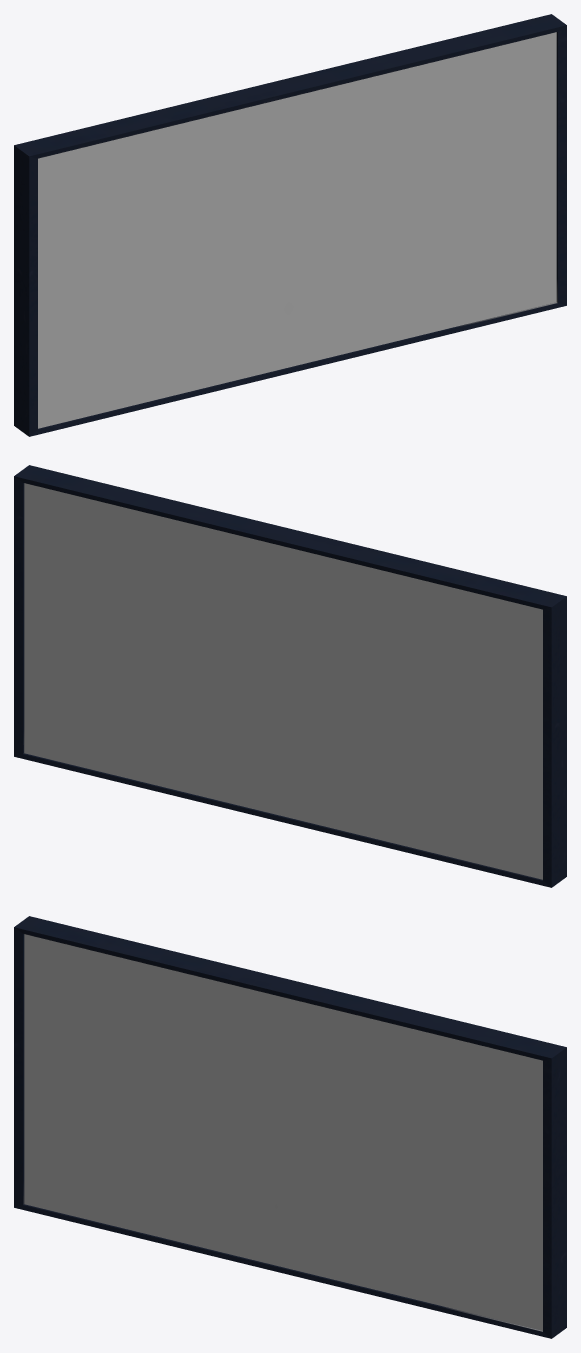
3 views of the same model, one above another, from view 1: azimuth 30°, elevation 25°; view 2: azimuth 150°, elevation 25°; view 3: azimuth 330°, elevation 25° (orthographic).
Parts seen in each view (by area): view 1: Chemical_Warning; view 2: Chemical_Warning; view 3: Chemical_Warning.
Boxes of the visible parts, x1,y1,x2,y2 form: Chemical_Warning: (14,14,566,436); Chemical_Warning: (14,465,566,887); Chemical_Warning: (14,916,566,1338).
Size of the model in its own units: 5.85 by 2.91 by 0.2871.
Materials: 1 (1 with a texture image).
